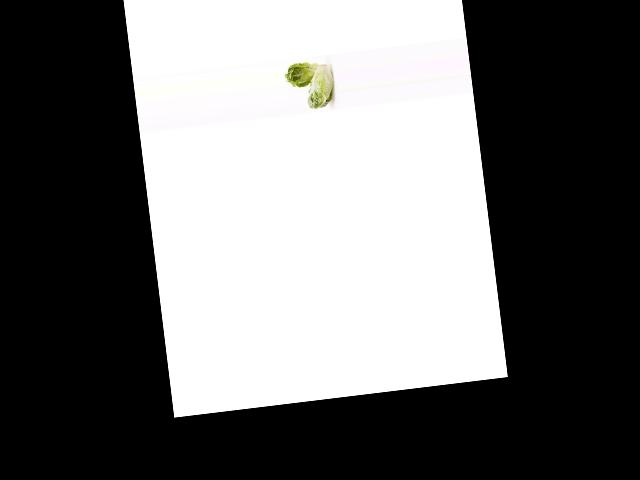lettuce: (300, 60, 338, 112)
